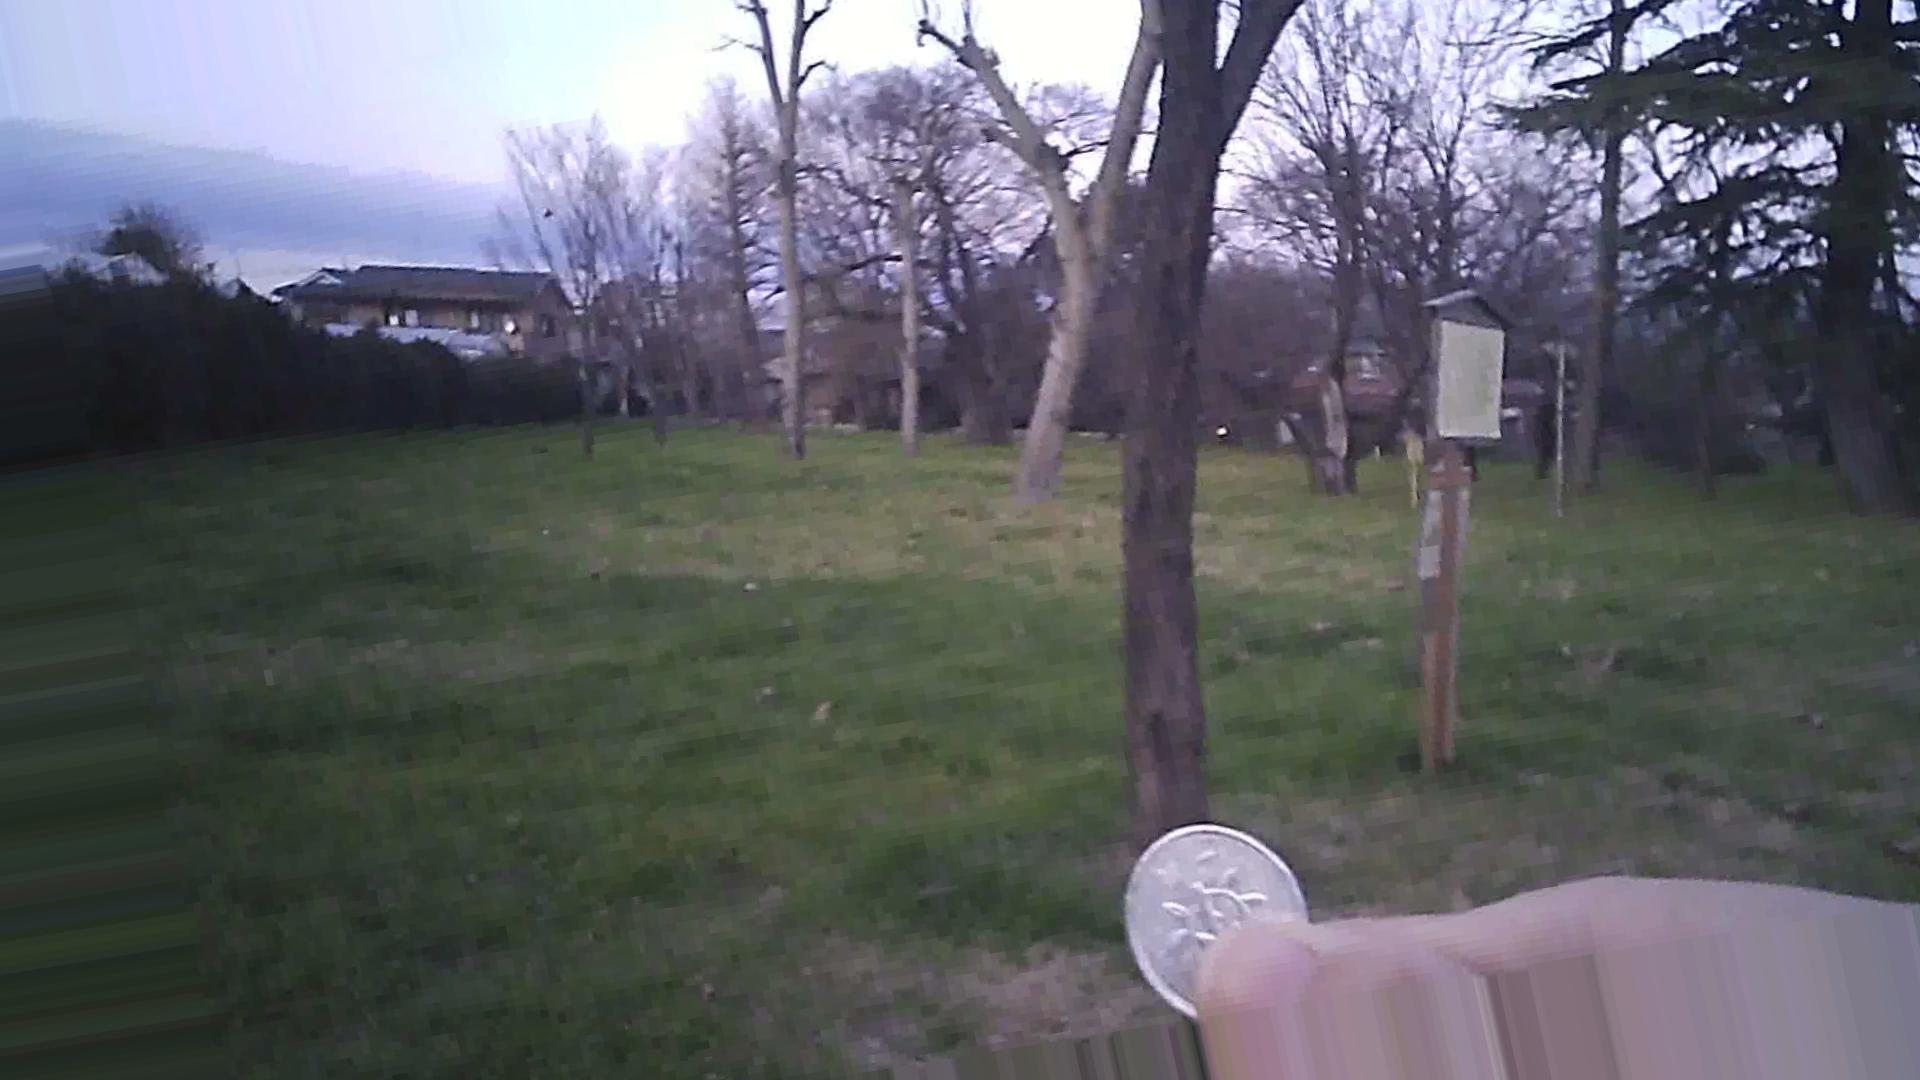1 Yen: (1114, 819, 1309, 1010)
